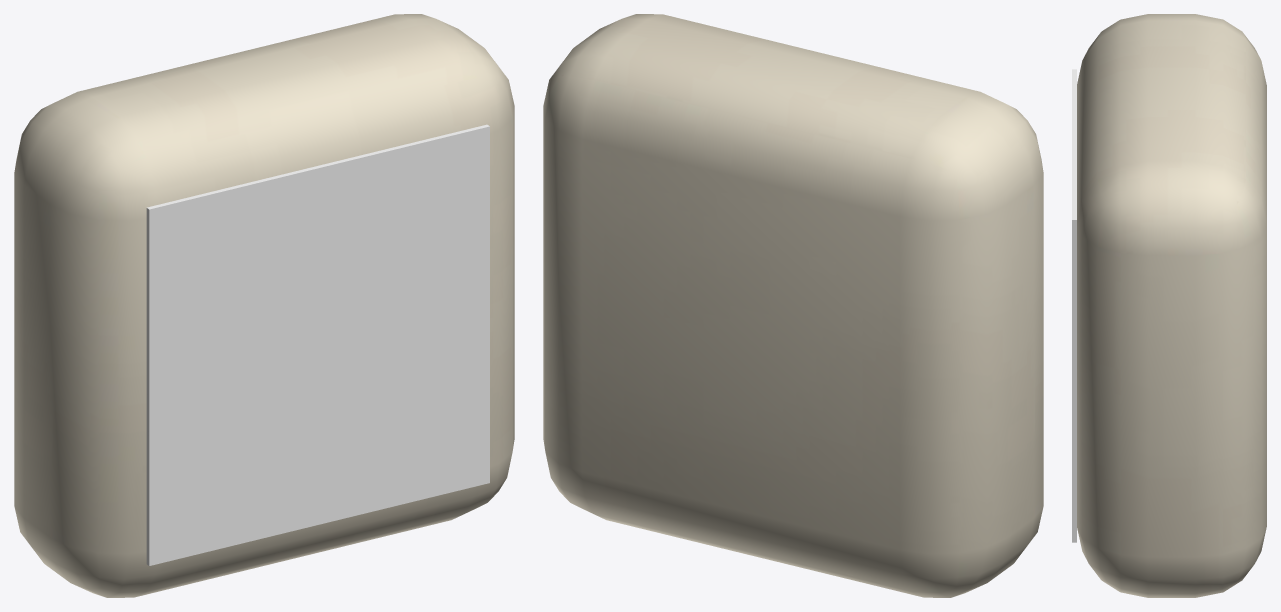
Rendered from key.glb.
3 views of the same model, side by side, from view 1: azimuth 30°, elevation 25°; view 2: azimuth 150°, elevation 25°; view 3: azimuth 270°, elevation 25° (orthographic). The views are drawn at different scales.
Parts seen in each view (by area): view 1: key, face; view 2: key; view 3: key, face.
Part boxes in pixels (<box>): key: <box>14,14,514,597</box>; face: <box>146,124,489,565</box>; key: <box>543,14,1043,597</box>; key: <box>1077,14,1266,597</box>; face: <box>1072,69,1076,542</box>.
Bounding box in the file's own units: 0.2 × 0.2 × 0.082.
2 materials, 1 textured.
